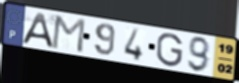4: (123, 27, 147, 63)
9: (187, 35, 213, 74), (93, 22, 117, 58)
A: (20, 12, 55, 49)
G: (155, 32, 184, 68)
M: (50, 14, 88, 55)
